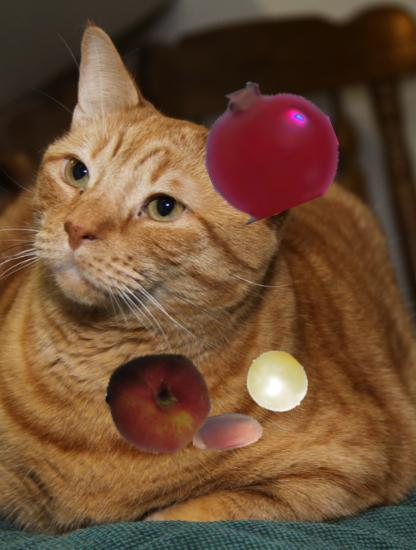Grape: (245, 350, 309, 414)
Hazelnut: (192, 395, 265, 468)
Nectarine: (105, 351, 212, 458)
Redcurrant: (202, 79, 335, 212)
